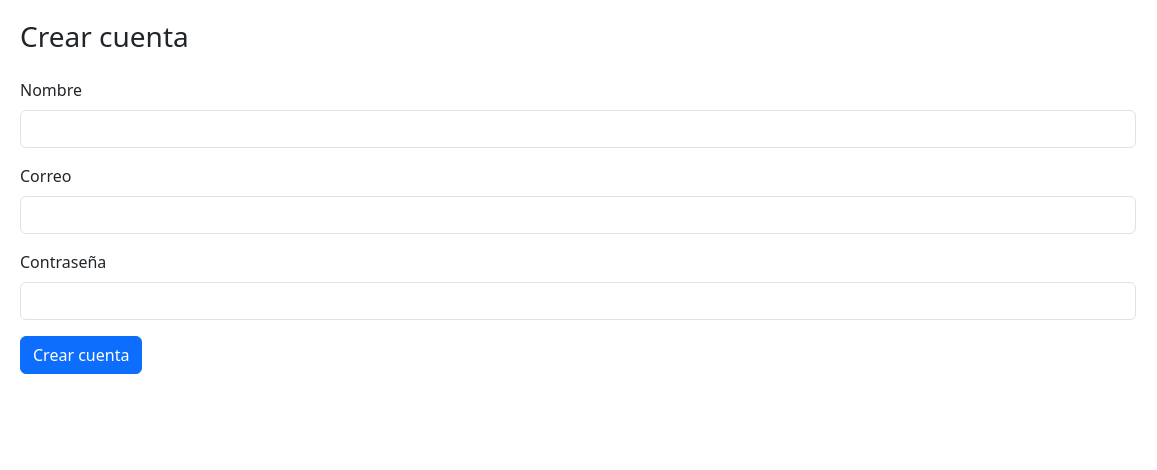
Scenario: Registro › muestra errores del formulario vacío y luego crea la cuenta en el backend
Step 1. Click the button "Crear cuenta" → click(81, 355), box [20, 336, 142, 374]
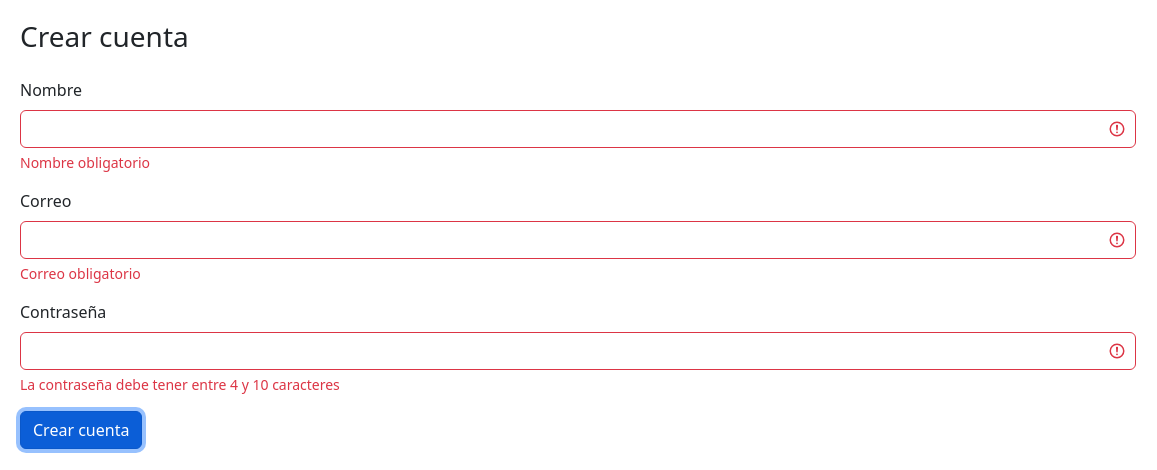
expect the text "Nombre obligatorio" is shown: met, box [20, 153, 150, 172]
Step 2. Type "Ana Soto" into the field labelled "Nombre" → (578, 129), box [20, 110, 1136, 148]
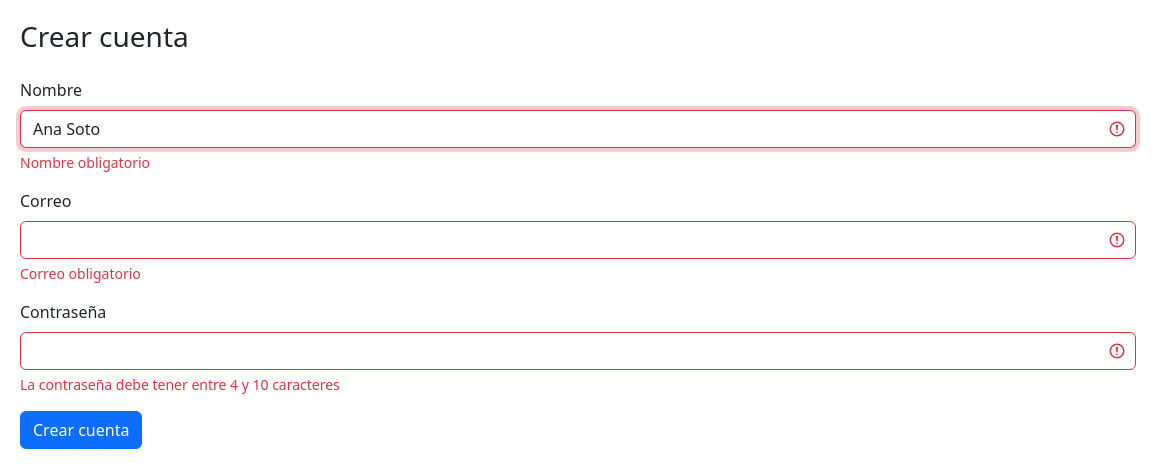
Step 3. Type "ana@gmail.com" into the field labelled "Correo" → (578, 240), box [20, 221, 1136, 259]
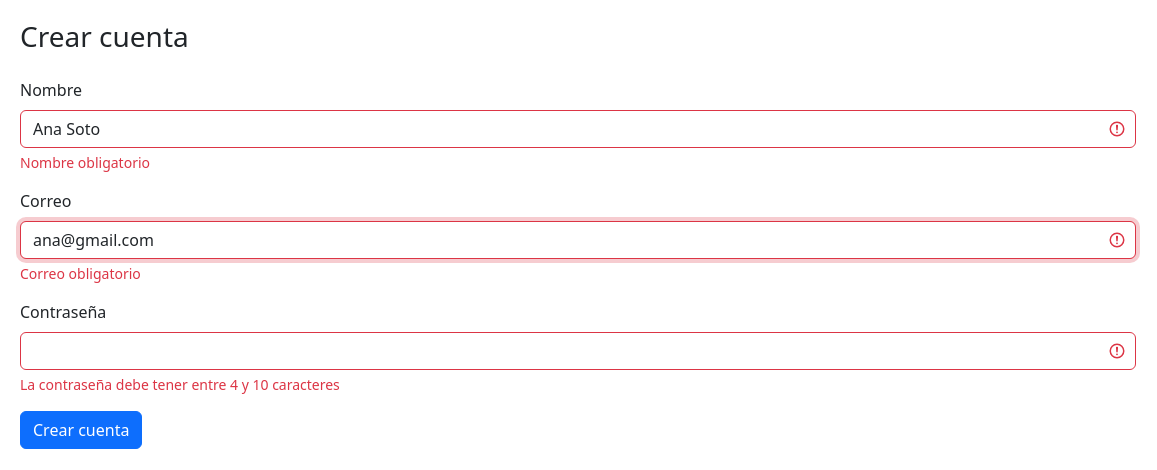
Step 4. Type "1234" into the password field labelled "Contraseña" → (578, 351), box [20, 332, 1136, 370]
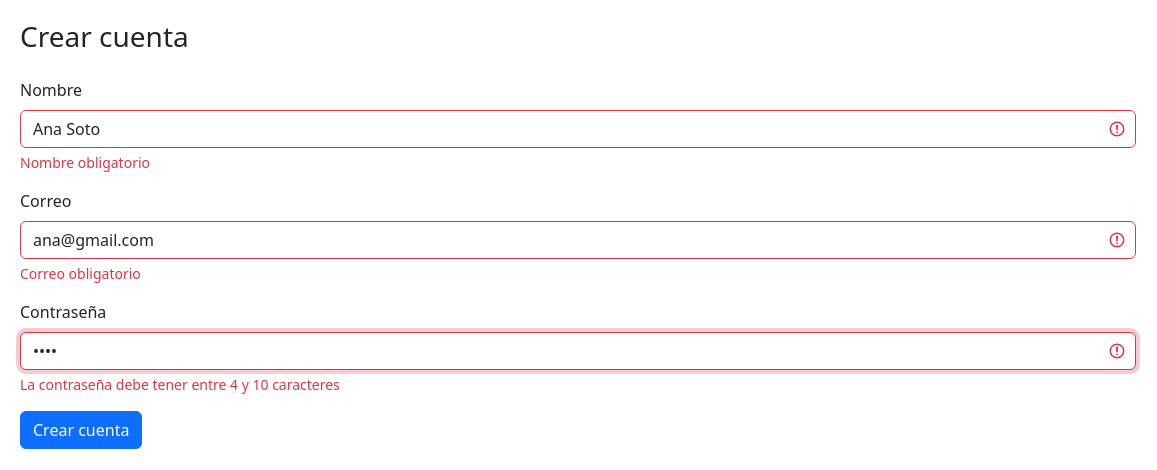
Step 5. Click the button "Crear cuenta" → click(81, 430), box [20, 411, 142, 449]
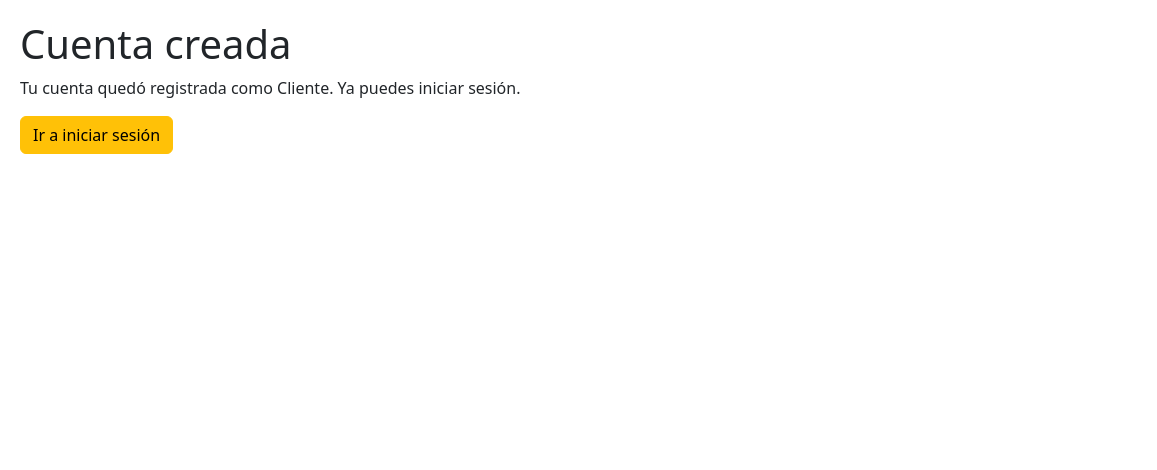
expect the heading "Cuenta creada" is shown: met, box [20, 16, 292, 71]
